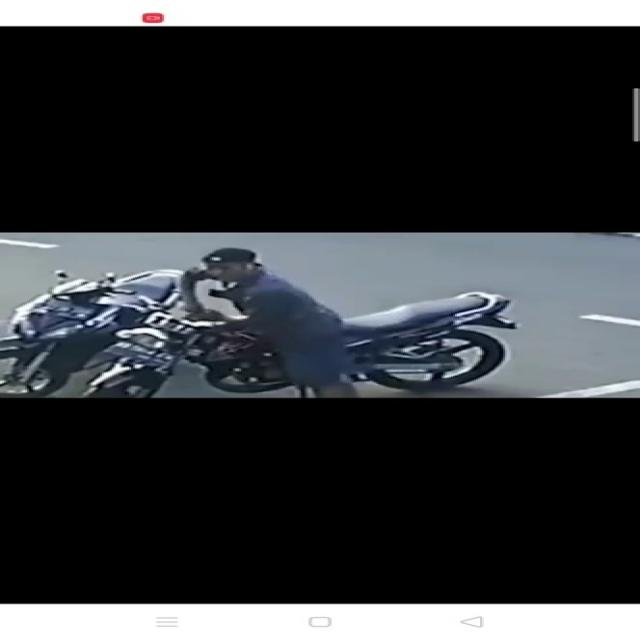pencurian: (116, 246, 524, 395)
